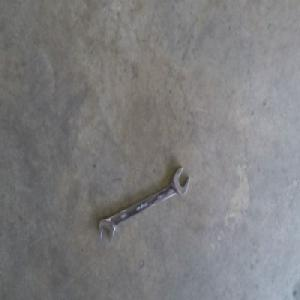Wrench: (99, 166, 189, 242)
